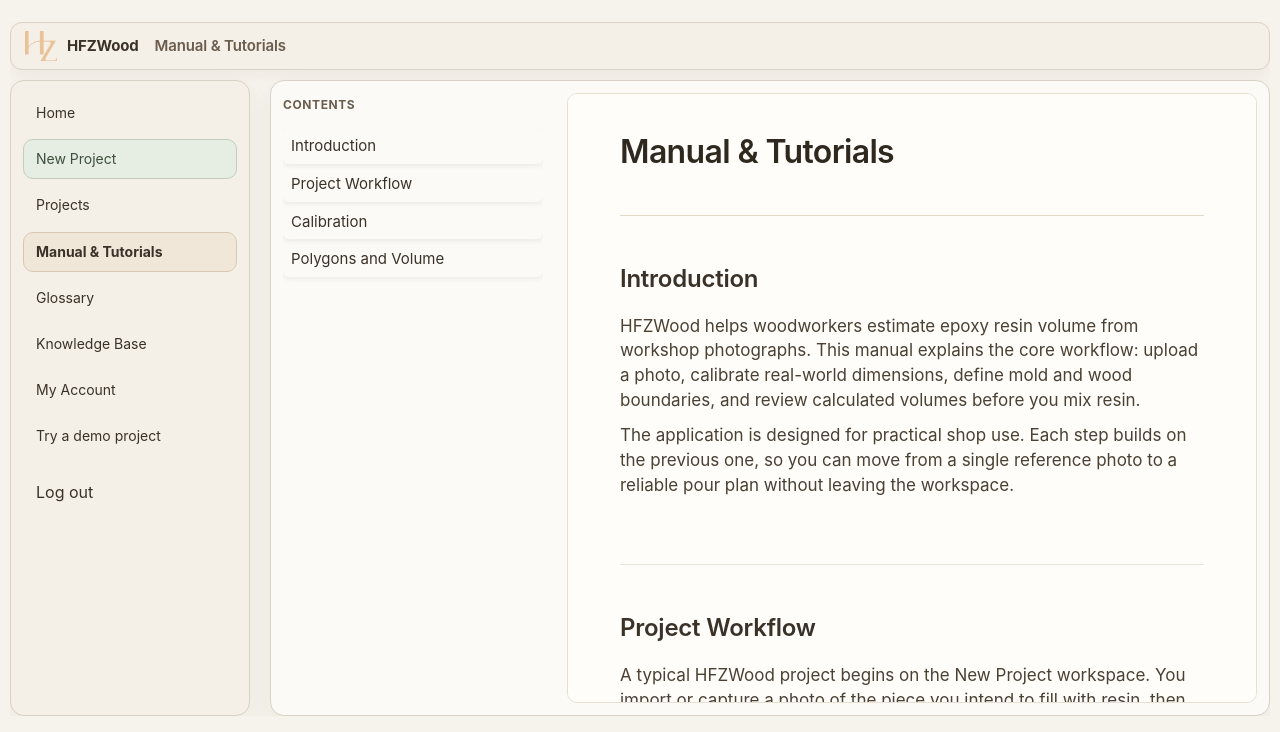
ManualTutorialsPage › jumps directly to a section when a table-of-contents item is clicked
Click the button "Polygons and Volume".
click(413, 259)  # box x1=283 y1=241 x2=543 y2=277
(page scrolled)
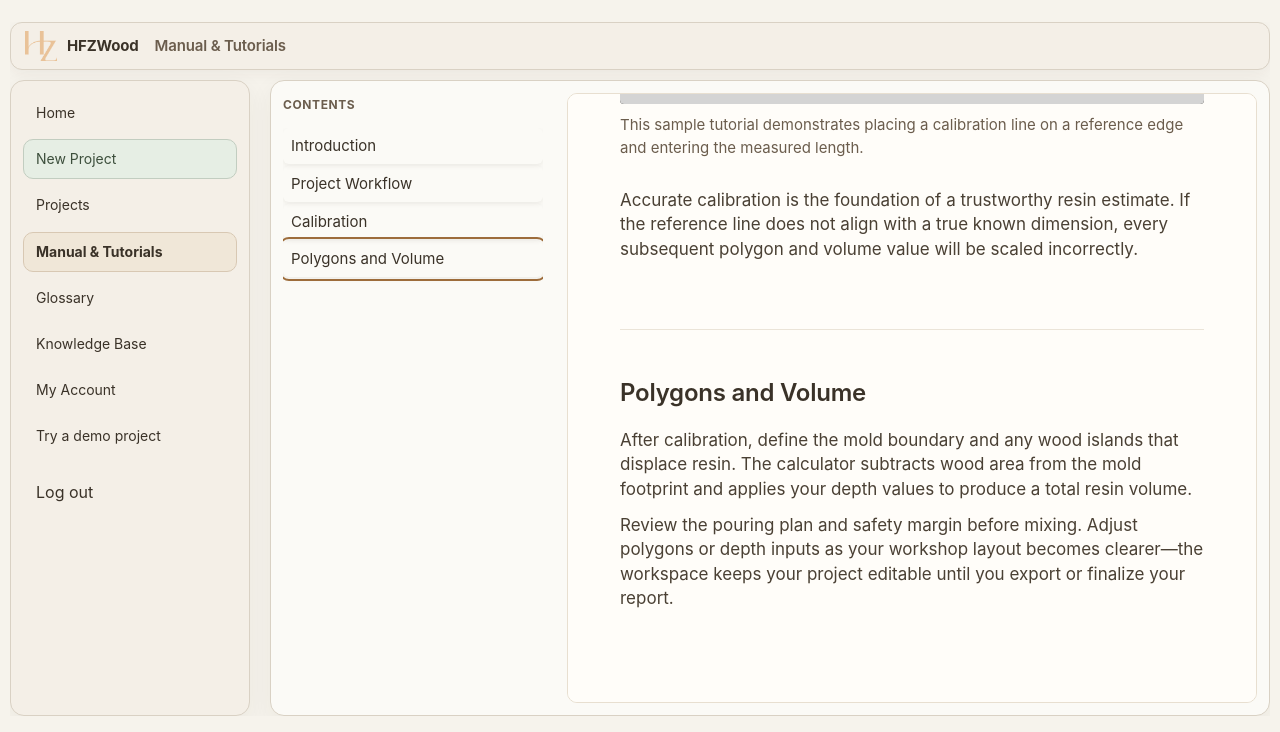
Expected: the element that starts with "Polygons and Volume" is shown, x1=620 y1=329 x2=1204 y2=630
